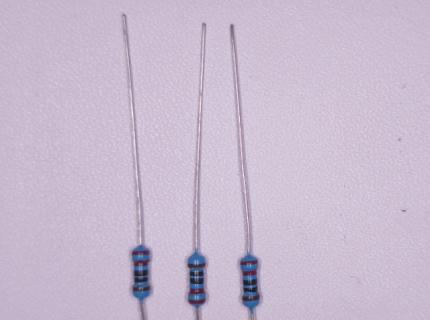Black band: (134, 269, 148, 276), (243, 278, 257, 285), (190, 278, 204, 284), (244, 286, 258, 292), (135, 277, 148, 282), (190, 272, 204, 276)
Brown band: (133, 286, 150, 292), (243, 295, 260, 301), (188, 264, 205, 268)
Red band: (134, 260, 150, 266), (189, 288, 205, 294), (132, 250, 150, 255), (188, 299, 206, 304), (240, 260, 258, 265), (243, 270, 257, 276)
